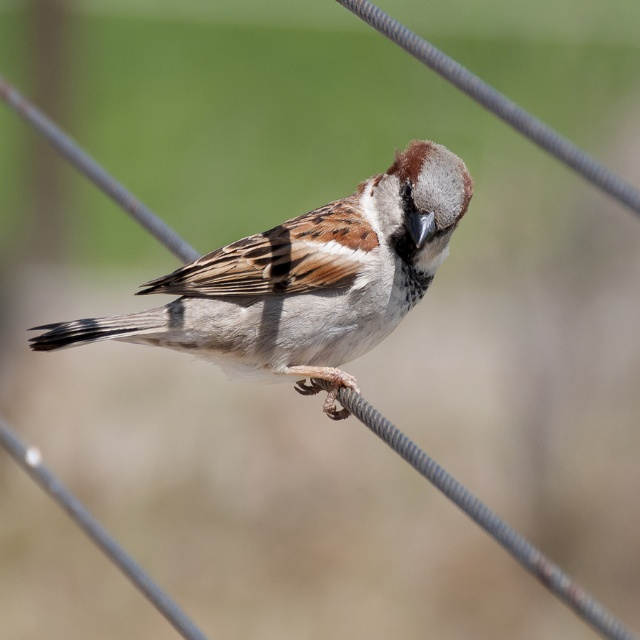Sparrow: (26, 141, 475, 418)
